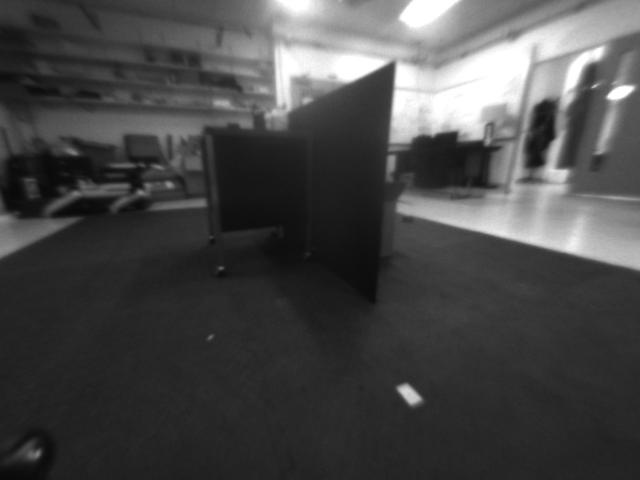dogtoy: (398, 210, 422, 227)
